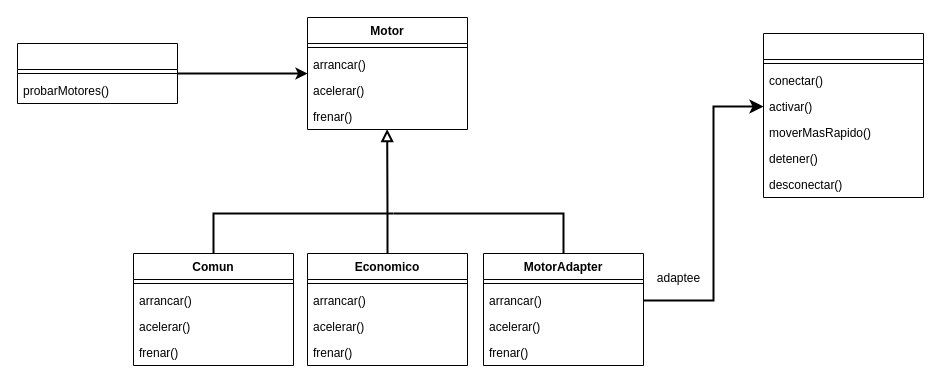
Image size: 941x386. Some labels were removed from this diagram. Here are the shapes that lost their labels. From the top down, the box of each, then its label:
(16, 42, 178, 104): ProbadorDeVehiculos
(762, 32, 924, 198): Electrico
